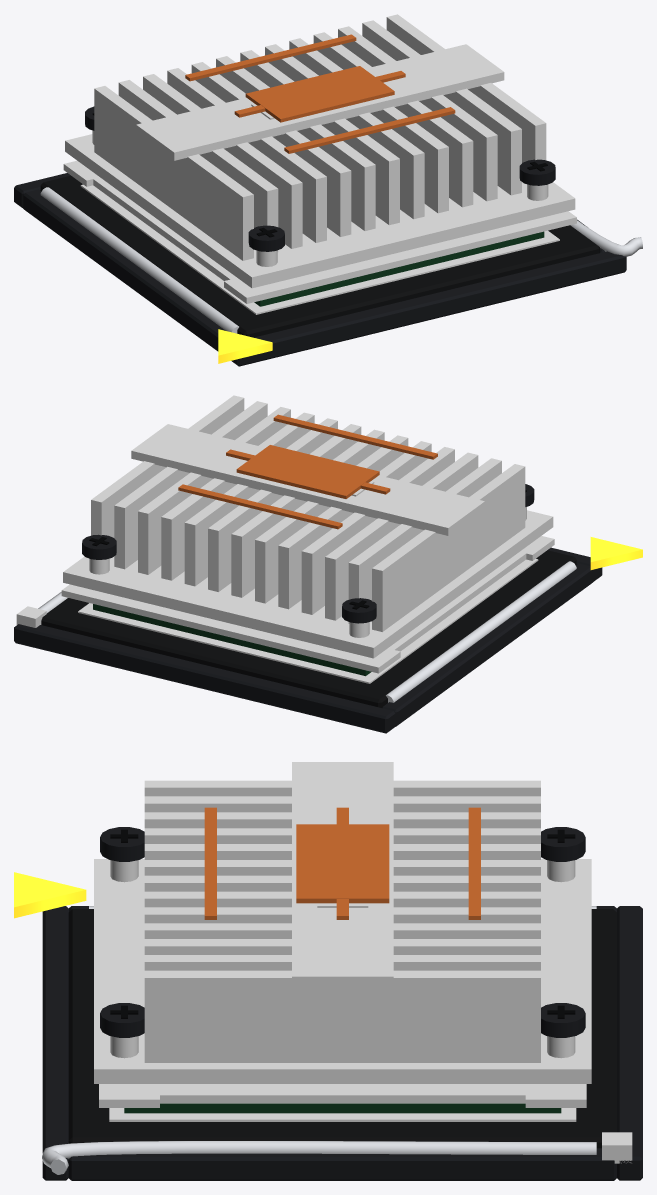
File: hwm_cpu_athlon_3000g.glb
3 renders of one model, top to bottom at view 1: azimuth 30°, elevation 25°; view 2: azimuth 150°, elevation 25°; view 3: azimuth 270°, elevation 25°, orthographic. The views are drawn at different scales.
Visible parts, largest first — view 1: Cooler, Socket, Frame, CPU, Screw_3, Screw_1, Lever; view 2: Cooler, Socket, Frame, CPU, Screw_2, Screw_0; view 3: Cooler, Socket, Frame, Lever, CPU, Screw_1, Screw_3, Screw_0, Screw_2.
Boxes of the visible parts, x1,y1,x2,y2 form: Cooler: (65, 14, 575, 288); Socket: (14, 173, 626, 366); Frame: (63, 160, 576, 303); CPU: (254, 231, 544, 306); Screw_3: (519, 159, 555, 200); Screw_1: (248, 225, 284, 266); Lever: (570, 220, 642, 256); Cooler: (63, 395, 553, 658); Socket: (14, 537, 642, 733); Frame: (61, 536, 554, 673); CPU: (93, 604, 371, 676); Screw_2: (82, 534, 116, 574); Screw_0: (342, 598, 376, 637); Cooler: (94, 762, 591, 1083); Socket: (14, 872, 642, 1180); Frame: (99, 1084, 586, 1107); Lever: (42, 1141, 596, 1174); CPU: (124, 1103, 561, 1113); Screw_1: (100, 827, 144, 882); Screw_3: (100, 1003, 144, 1058); Screw_0: (541, 827, 585, 882); Screw_2: (541, 1003, 585, 1058).
Size of the model in its own units: 0.1338 by 0.0421 by 0.1239.
